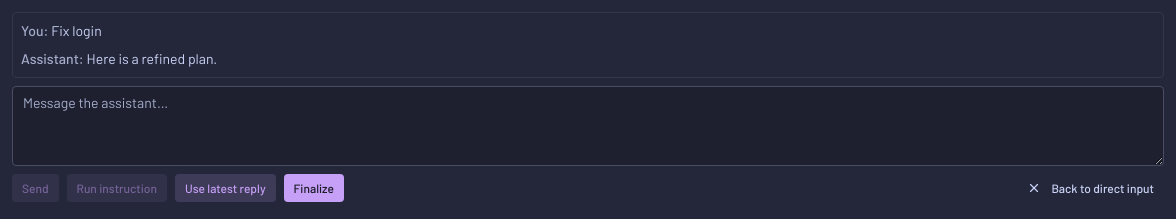
Scenario: ComposerAssistPanel › accepts the latest reply and previews run/queue without continue
Check: the list item "Assistant: Here is a refined plan." is shown, box [21,50,217,67]
Click the button "Use latest reply" at (225, 188), box [175,174,276,202]
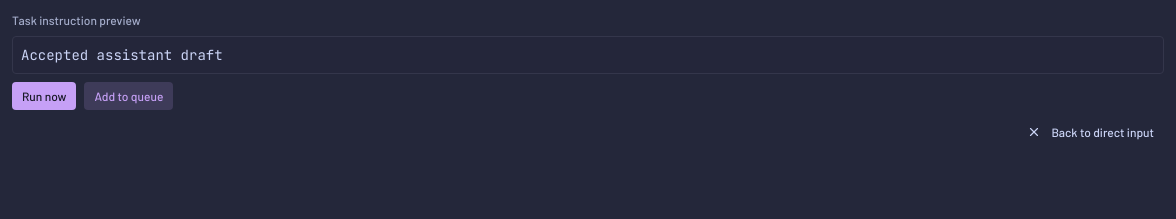
Check: the text "Accepted assistant draft" is shown, box [12,36,1164,74]
Check: the button "Run now" is shown, box [12,82,76,110]
Check: the button "Add to queue" is shown, box [84,82,173,110]
